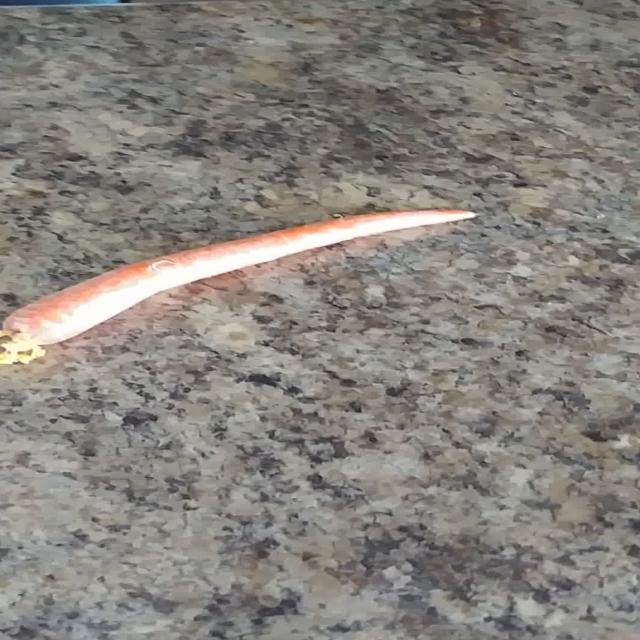carrot: (0, 210, 476, 364)
